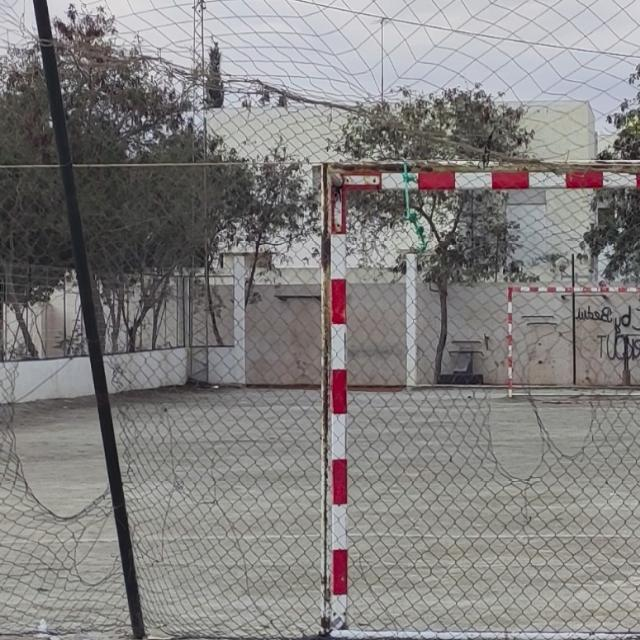fence line: (5, 262, 137, 528), (467, 319, 603, 501)
